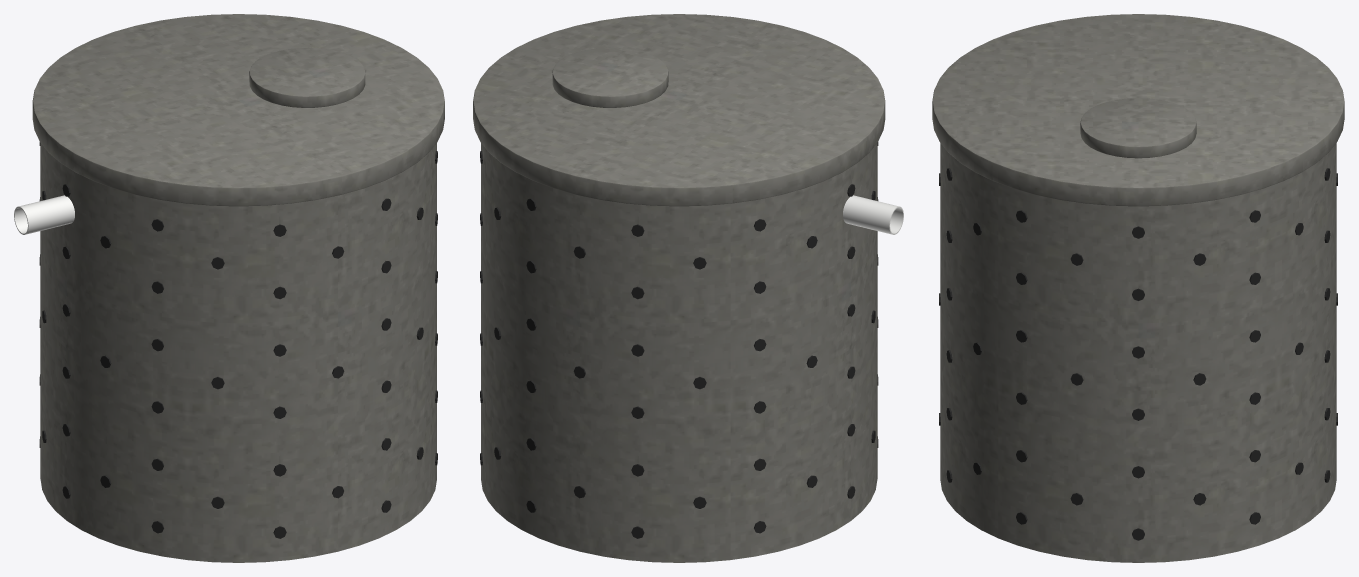
File: HID-TRT-003_lod1.glb
3 views of the same model, side by side, from view 1: azimuth 30°, elevation 25°; view 2: azimuth 150°, elevation 25°; view 3: azimuth 270°, elevation 25° (orthographic).
Visible parts, largest first — view 1: HID-TRT-003_laje, HID-TRT-003_anel0, HID-TRT-003_anel1, HID-TRT-003_anel2, HID-TRT-003_inspecao, HID-TRT-003_ent; view 2: HID-TRT-003_laje, HID-TRT-003_anel0, HID-TRT-003_anel1, HID-TRT-003_anel2, HID-TRT-003_inspecao, HID-TRT-003_ent; view 3: HID-TRT-003_laje, HID-TRT-003_anel0, HID-TRT-003_anel1, HID-TRT-003_anel2, HID-TRT-003_inspecao.
Part boxes in pixels (x1,y1,x2,y2): HID-TRT-003_laje: (32, 14, 444, 206); HID-TRT-003_anel0: (40, 359, 436, 562); HID-TRT-003_anel1: (40, 240, 436, 443); HID-TRT-003_anel2: (40, 143, 436, 323); HID-TRT-003_inspecao: (249, 47, 365, 107); HID-TRT-003_ent: (14, 195, 74, 234); HID-TRT-003_laje: (473, 14, 885, 206); HID-TRT-003_anel0: (481, 359, 877, 562); HID-TRT-003_anel1: (481, 240, 877, 443); HID-TRT-003_anel2: (481, 143, 877, 323); HID-TRT-003_inspecao: (552, 47, 668, 107); HID-TRT-003_ent: (843, 195, 903, 234); HID-TRT-003_laje: (932, 14, 1344, 206); HID-TRT-003_anel0: (940, 361, 1336, 562); HID-TRT-003_anel1: (940, 241, 1336, 443); HID-TRT-003_anel2: (940, 143, 1336, 323); HID-TRT-003_inspecao: (1080, 98, 1196, 158).
Bounding box in the file's own units: 1.73 × 1.63 × 1.56.
Materials: 3 (1 with a texture image).
